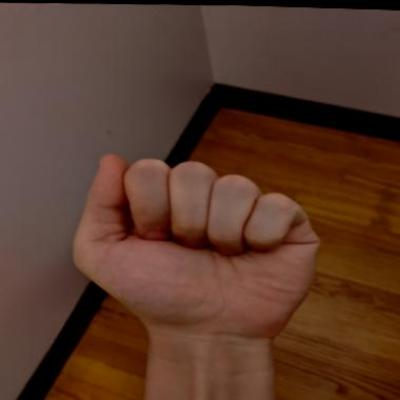hand: (64, 145, 328, 348)
